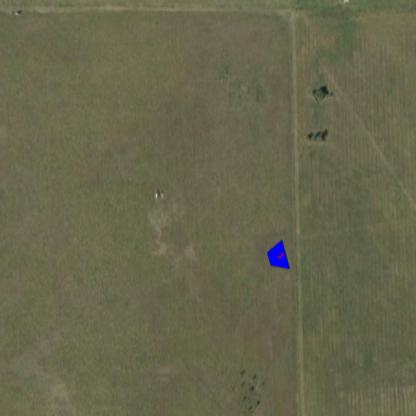I: (276, 252, 286, 260)
trapezium: (266, 239, 290, 271)
